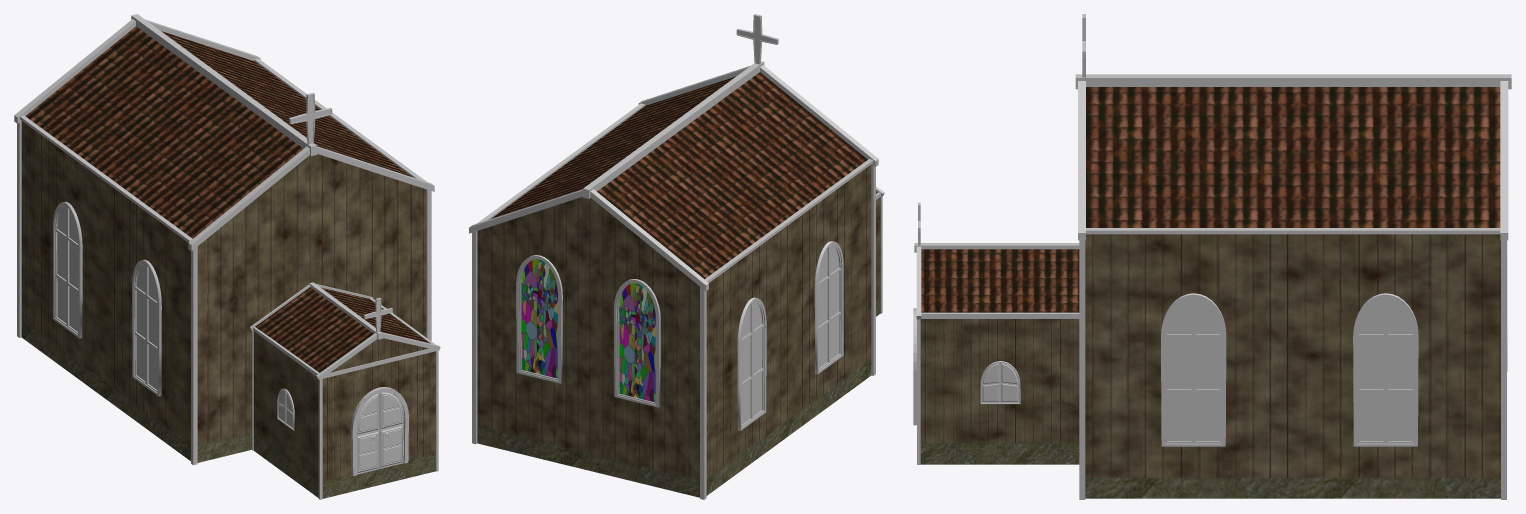
File: church.fbx
3 views of the same model, side by side, from view 1: azimuth 30°, elevation 25°; view 2: azimuth 150°, elevation 25°; view 3: azimuth 270°, elevation 25° (orthographic). The views are drawn at different scales.
Parts seen in each view (by area): view 1: Base; view 2: Base; view 3: Base.
Part boxes in pixels (<box>): Base: <box>14,14,440,499</box>; Base: <box>469,14,884,499</box>; Base: <box>913,14,1511,499</box>.
Bounding box in the file's own units: 7.27 × 9.75 × 12.77.
